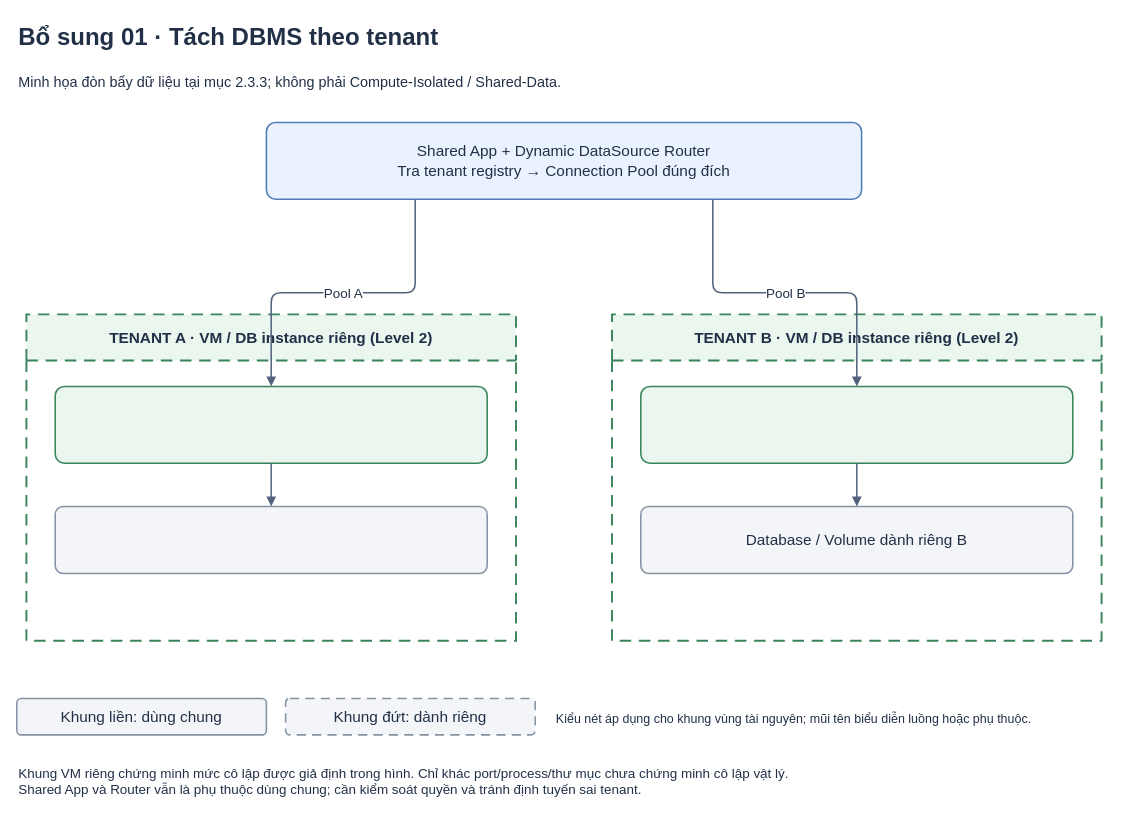
This 1128x827 diagram has some shape labels left out. Each missing label, with the box of its shape:
Database / Volume dành riêng A: (54, 505, 487, 574)
PostgreSQL instance A Connection Pool A: (54, 385, 487, 463)
PostgreSQL instance B Connection Pool B: (640, 385, 1073, 463)
